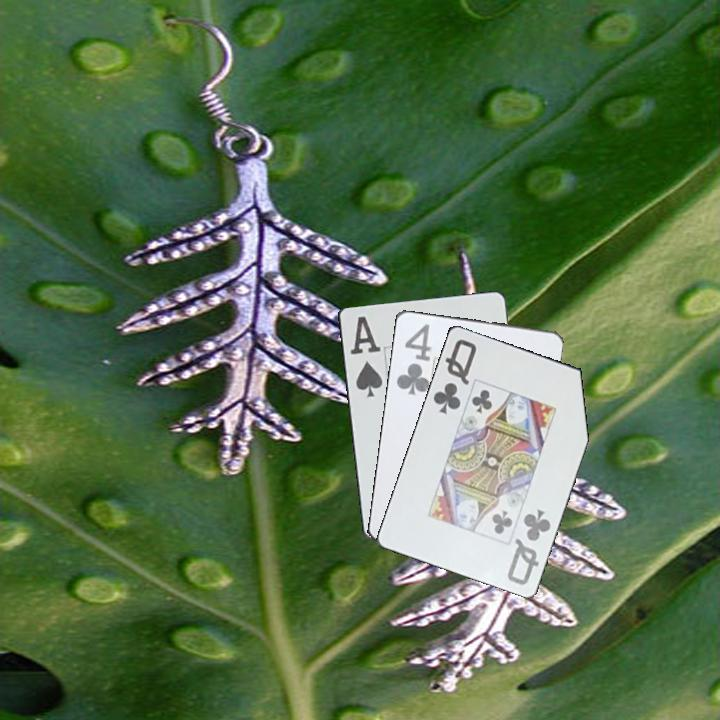4c: (392, 320, 434, 398)
As: (346, 312, 385, 401)
Qc: (503, 505, 554, 588), (429, 335, 479, 417)
